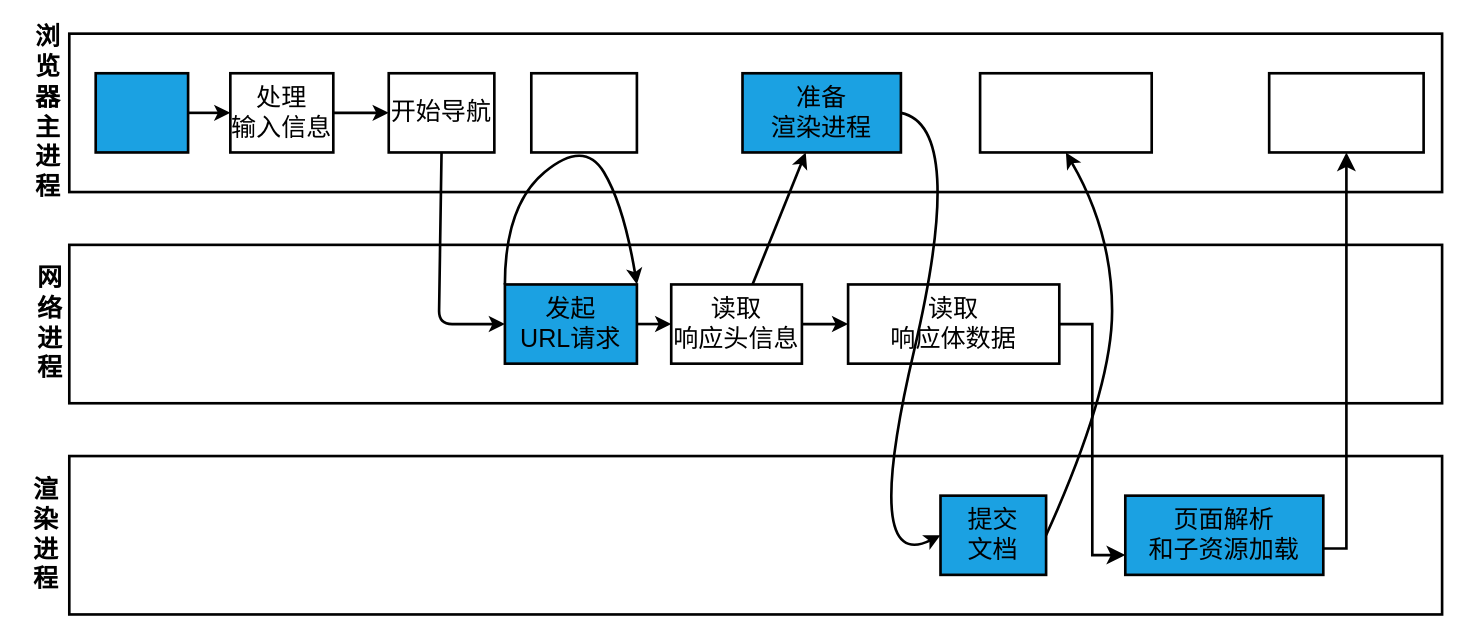
Image size: 1465x639. Some labels were removed from this diagram. Each missing label, with the centre of its shape:
用户输入: pixel 141 112
确认 文档提交: pixel 1065 112
重定向: pixel 583 112
页面 加载完成: pixel 1345 112
